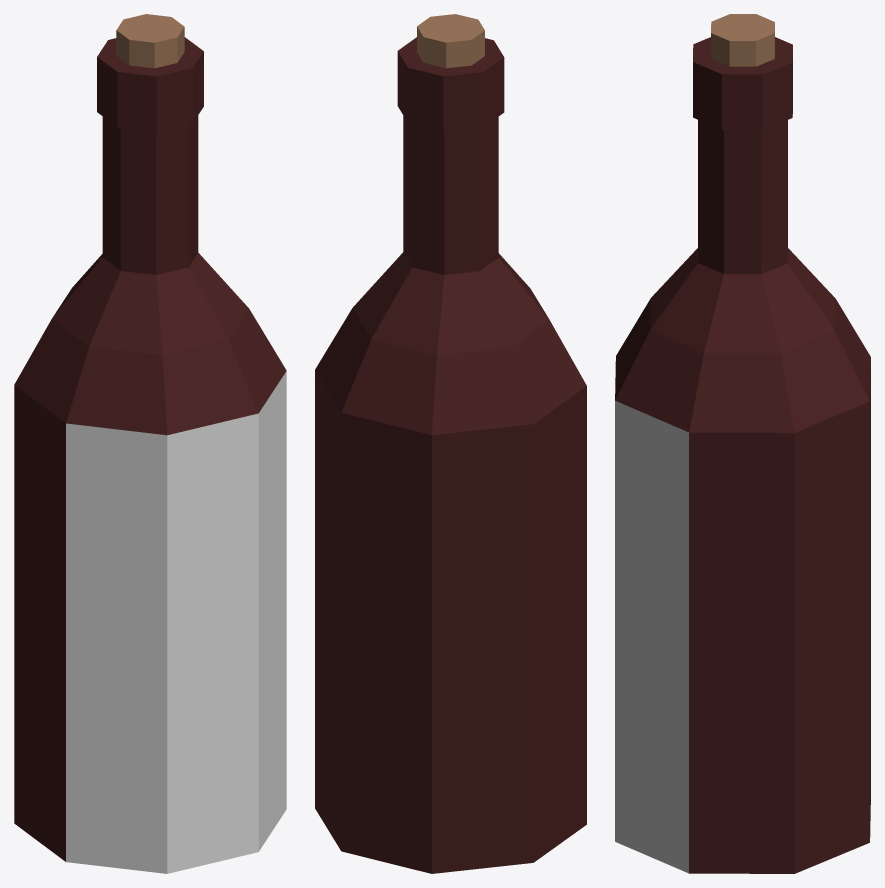
Rendered from bottle1.fbx.
The picture shows the model from 3 angles, left to right: view 1: azimuth 30°, elevation 25°; view 2: azimuth 150°, elevation 25°; view 3: azimuth 270°, elevation 25°; orthographic projection.
Parts seen in each view (by area): view 1: Cylinder; view 2: Cylinder; view 3: Cylinder.
Part boxes in pixels (bbox=[...]): Cylinder: bbox=[14, 14, 286, 873]; Cylinder: bbox=[315, 14, 586, 873]; Cylinder: bbox=[615, 14, 870, 873].
Size of the model in its own units: 0.3099 by 1.06 by 0.3099.
